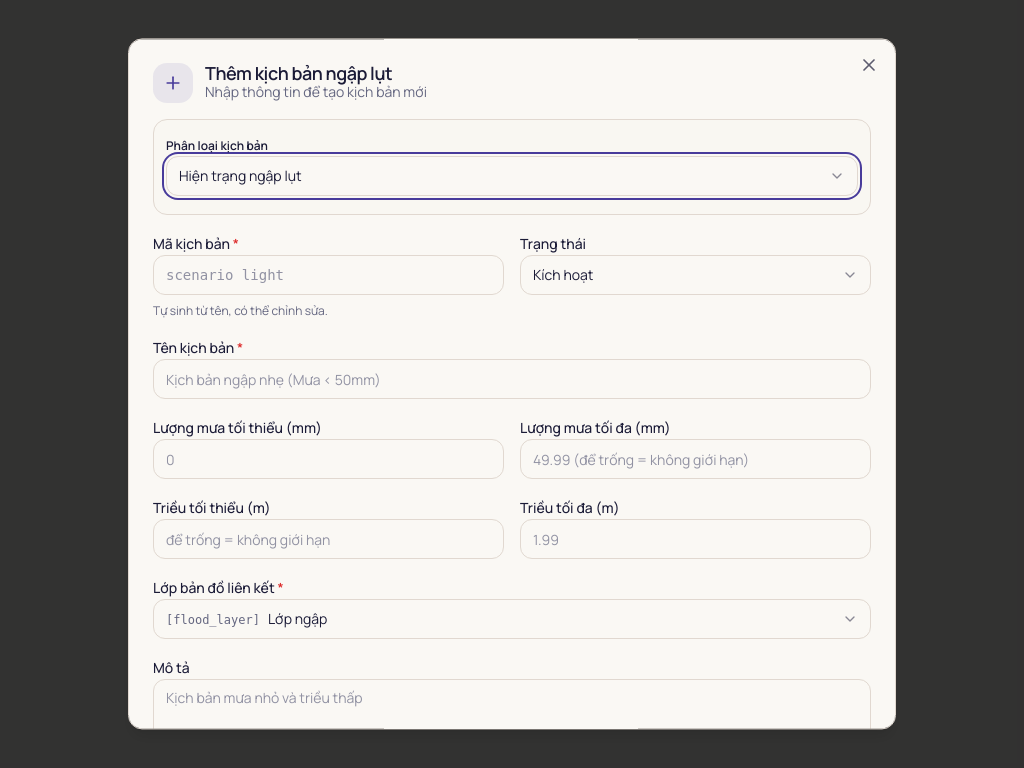
Test: KttvScenarioFormDialog › rejects non-numeric minimum rainfall
Type "scenario_1" into the field labelled "Mã kịch bản *" at (328, 275), box [153,255,504,295]
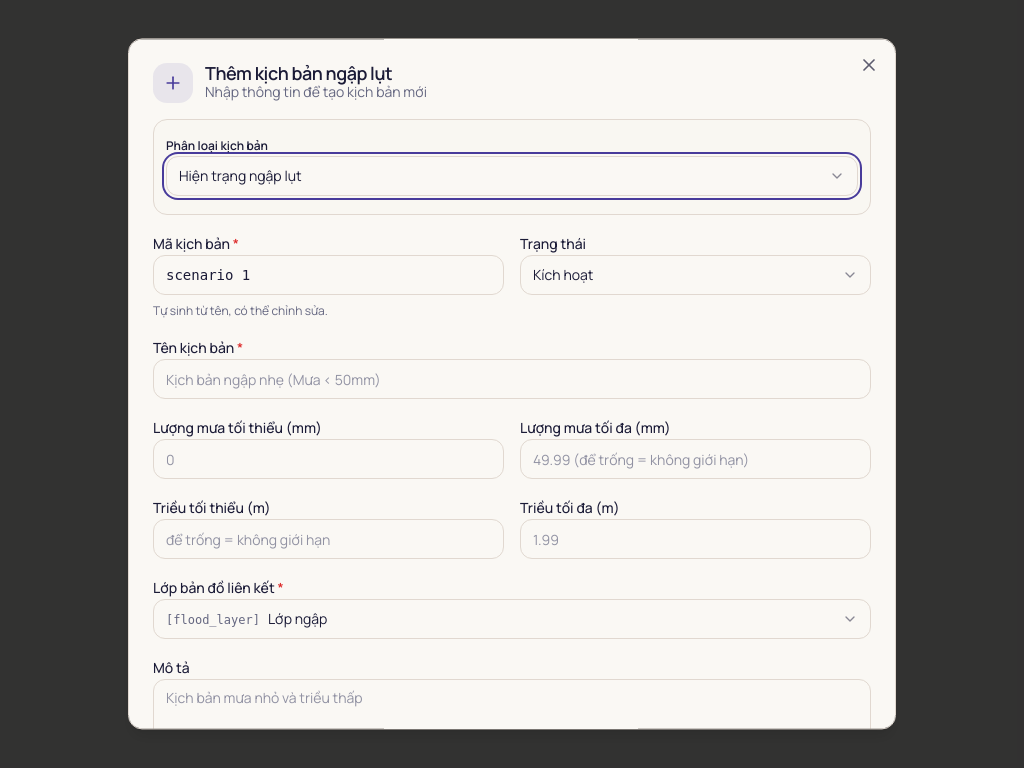
Type "Kịch bản thử" into the field labelled "Tên kịch bản *" at (512, 379), box [153,359,871,399]
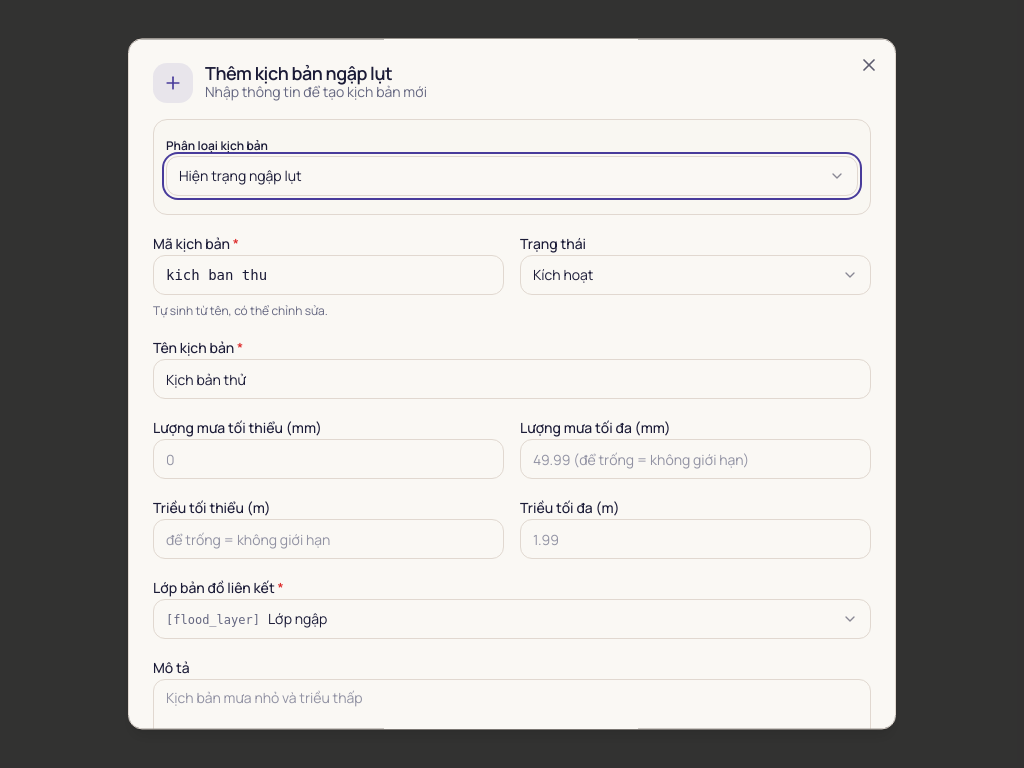
Type "abc" into the field labelled "Lượng mưa tối thiểu (mm)" at (328, 459), box [153,439,504,479]
(page scrolled)
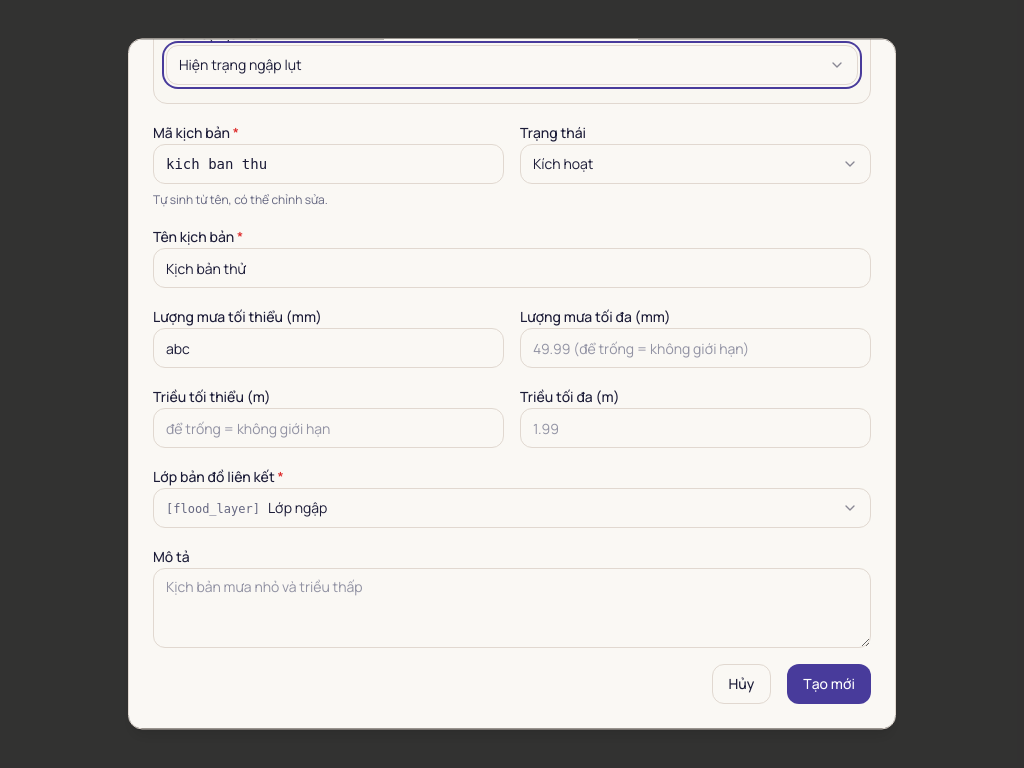
Click the button "Tạo mới" at (829, 684), box [787,664,871,704]
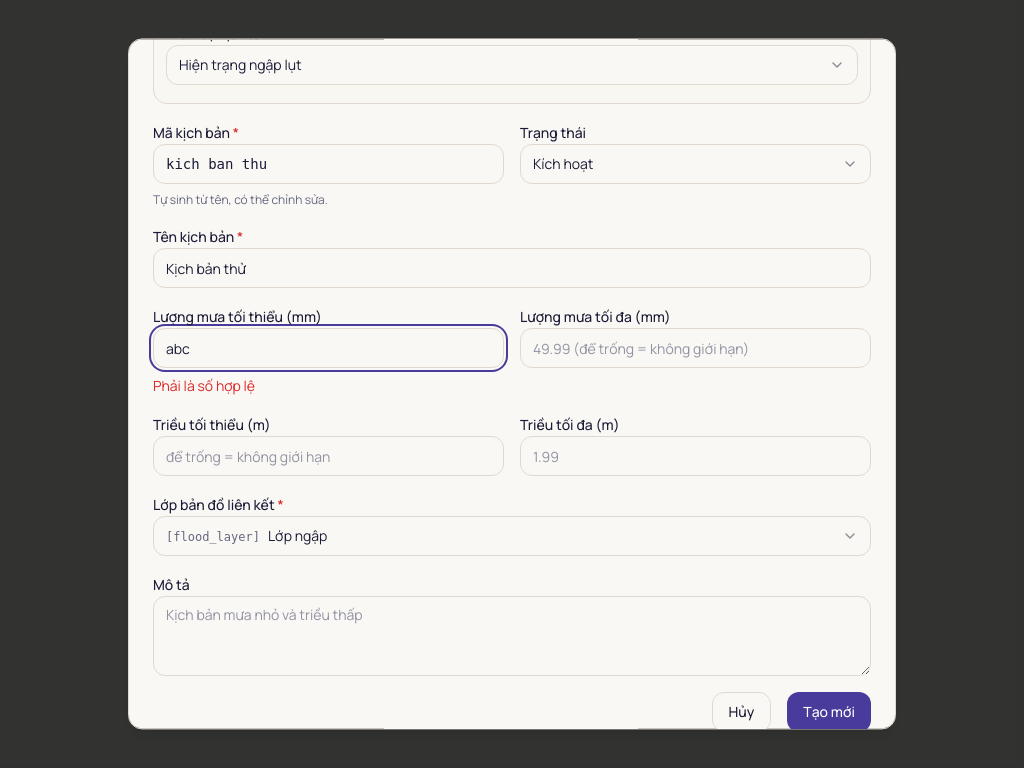
Now the text "Phải là số hợp lệ" is shown, box [153,376,255,395]
